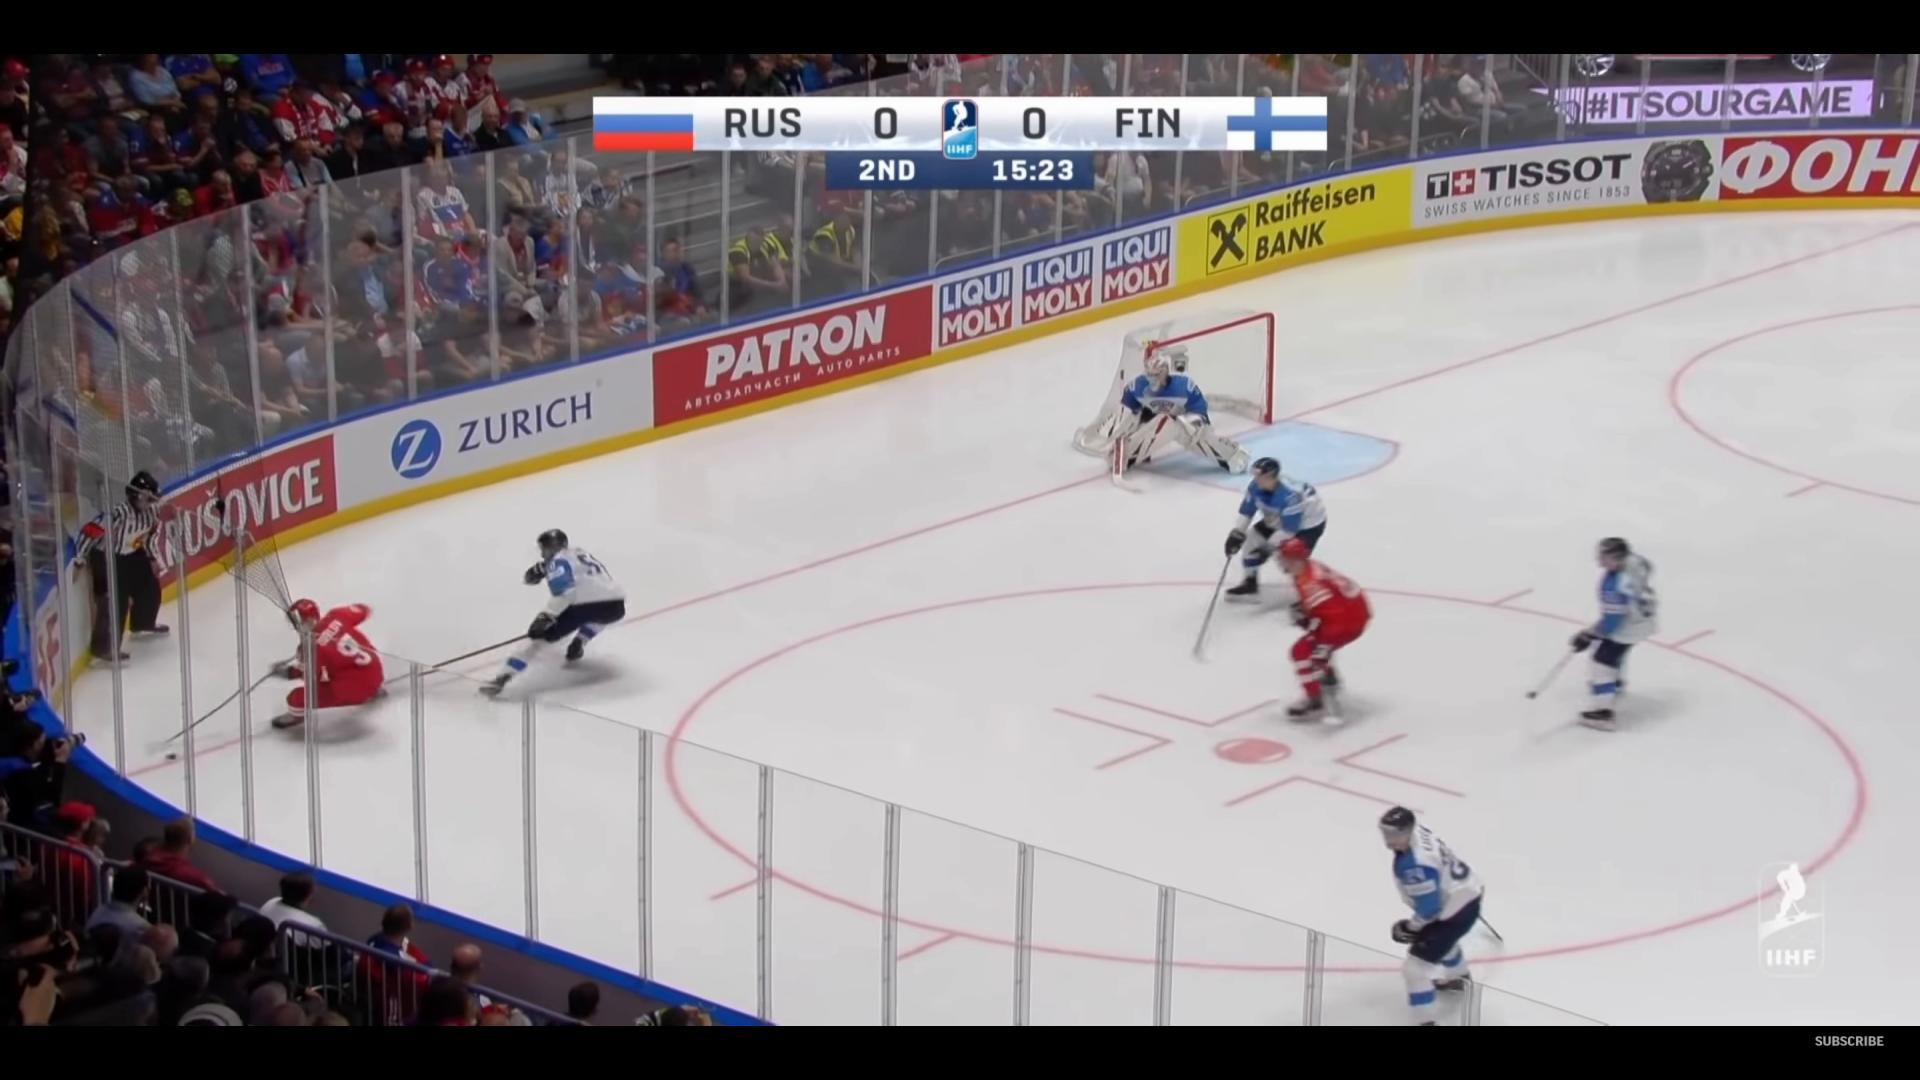puck: (162, 752, 178, 758)
